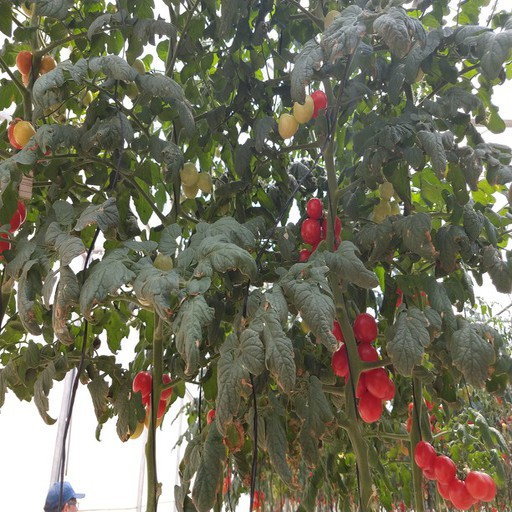green tomato bunch: (175, 160, 213, 196), (371, 181, 402, 222)
mixed tomato bunch: (17, 50, 92, 109), (275, 90, 327, 139), (9, 117, 56, 159)
red tomato bunch: (329, 312, 395, 422), (415, 442, 495, 507), (299, 198, 340, 282), (130, 374, 172, 416), (1, 197, 25, 260)
